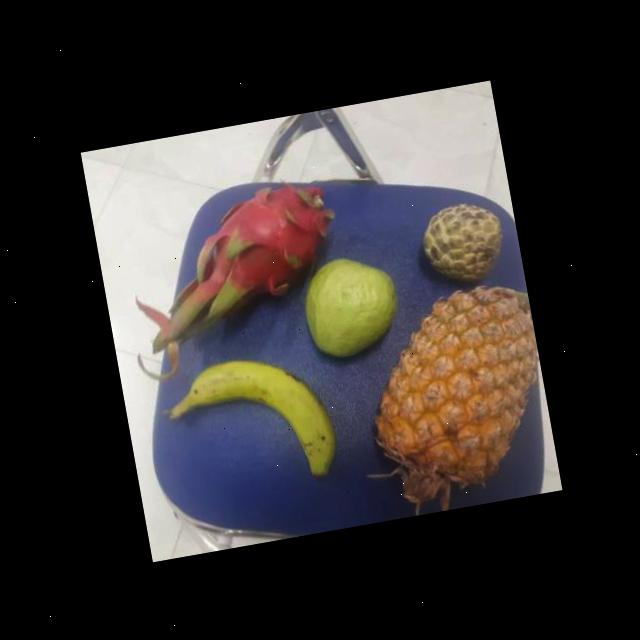Sakya fruit: (410, 198, 510, 290)
banana: (162, 348, 337, 492)
guava: (292, 250, 404, 360)
pitaya: (196, 174, 343, 308)
